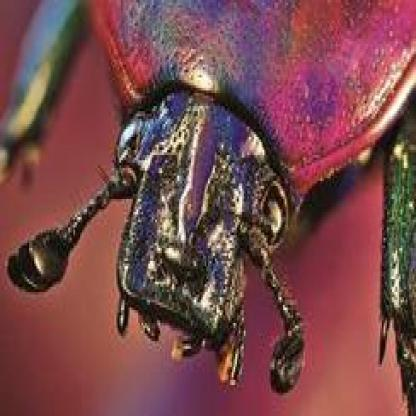beetle: (9, 1, 416, 416)
